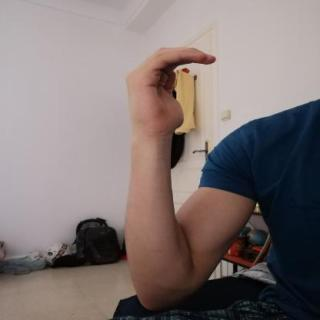HAA: (112, 37, 226, 138)
